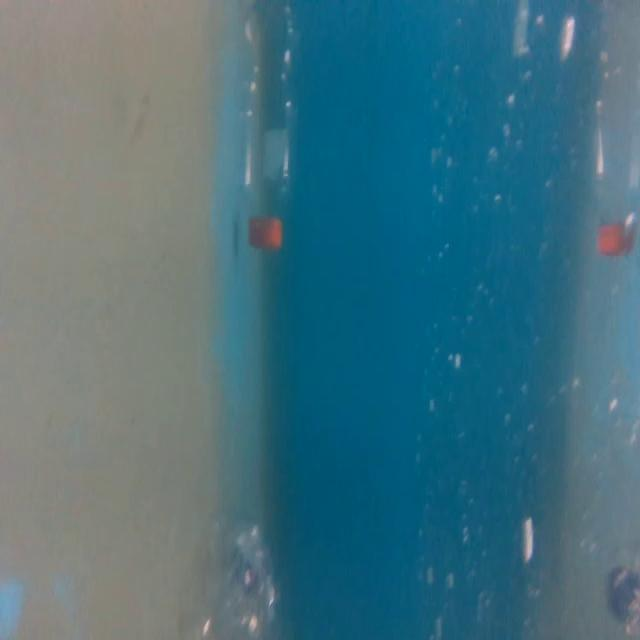plastic bottle: (239, 5, 311, 258)
